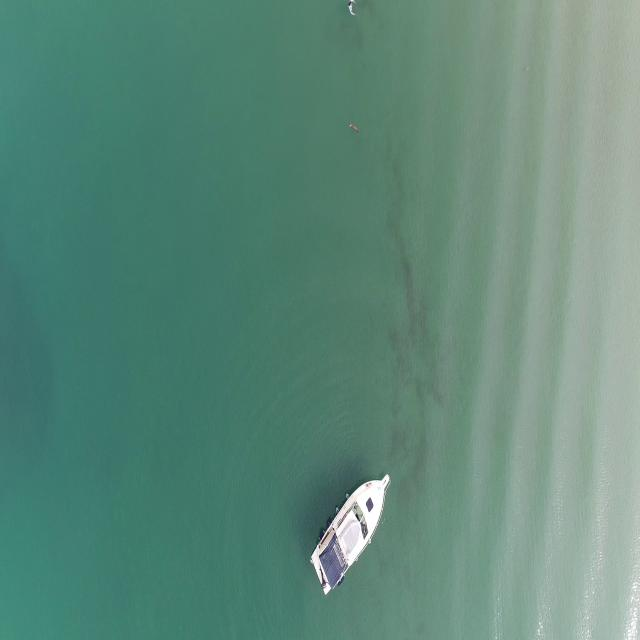boat: (312, 468, 391, 600)
person: (346, 1, 356, 19)
wood: (348, 120, 361, 134)
